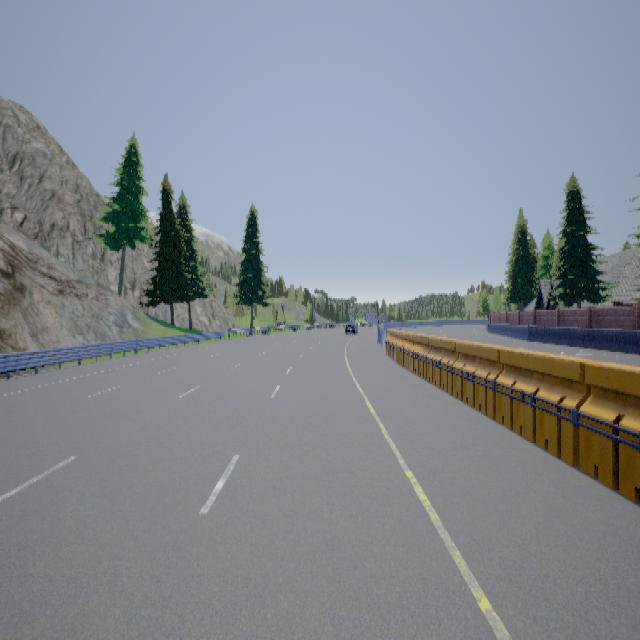vehicle: (345, 320, 359, 333)
